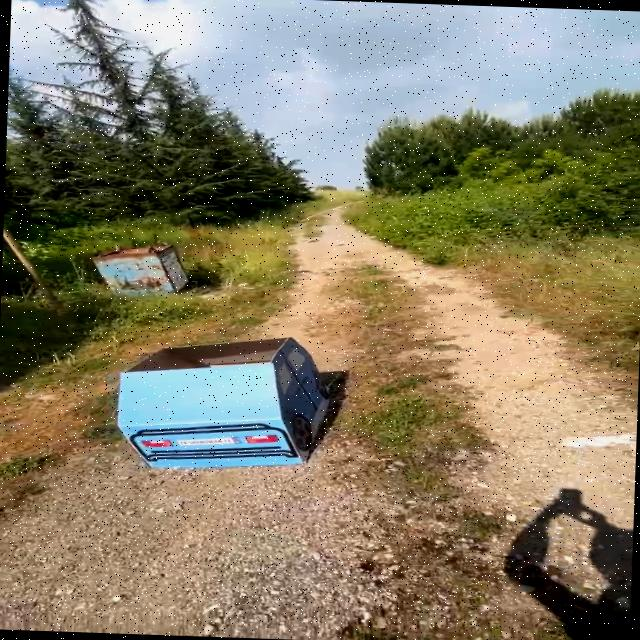blue_car: (63, 320, 379, 483)
